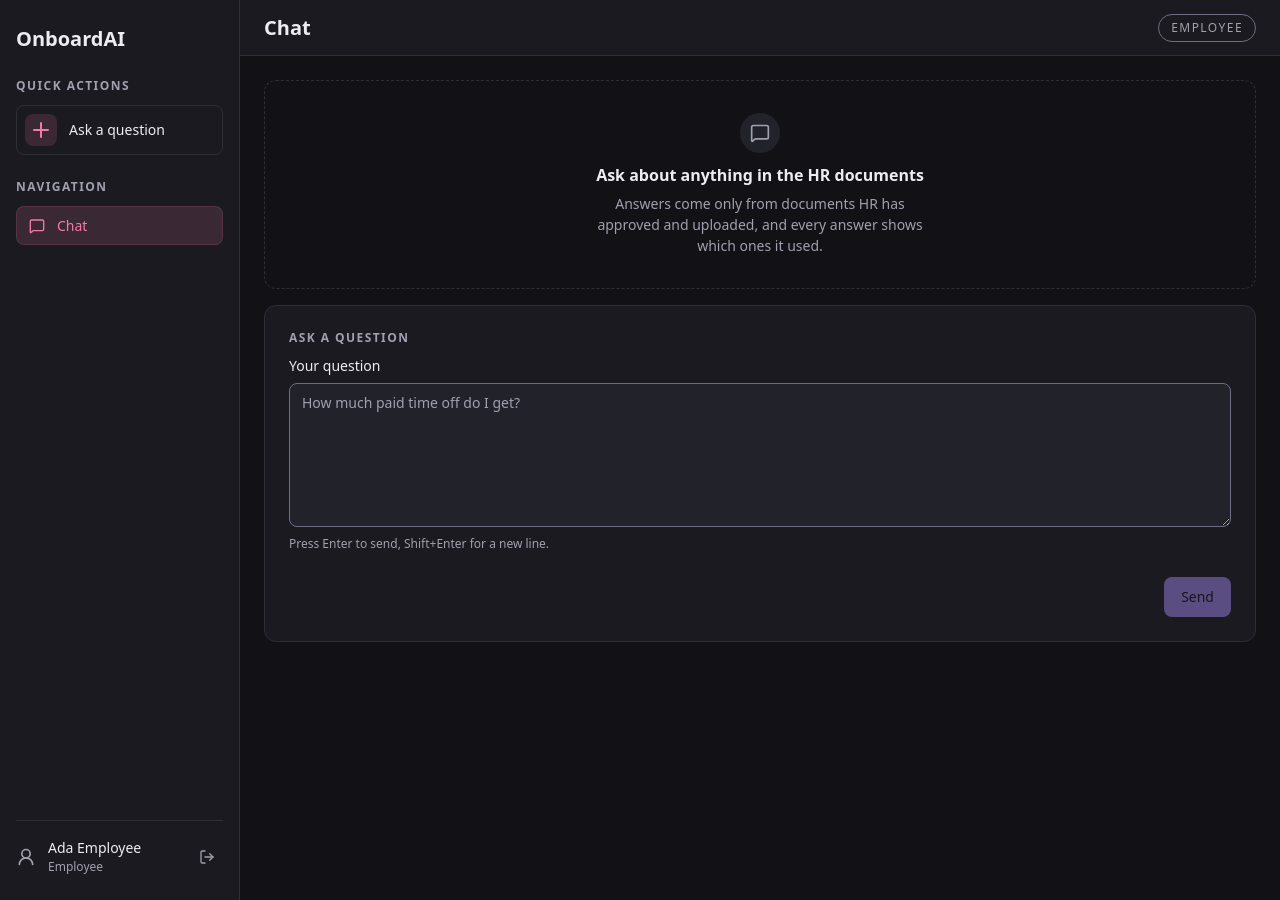
Test: shows the answer
Type "How much paid time off do I accrue?" into the text box labelled "Your question" at (760,454), box [289,382,1231,526]
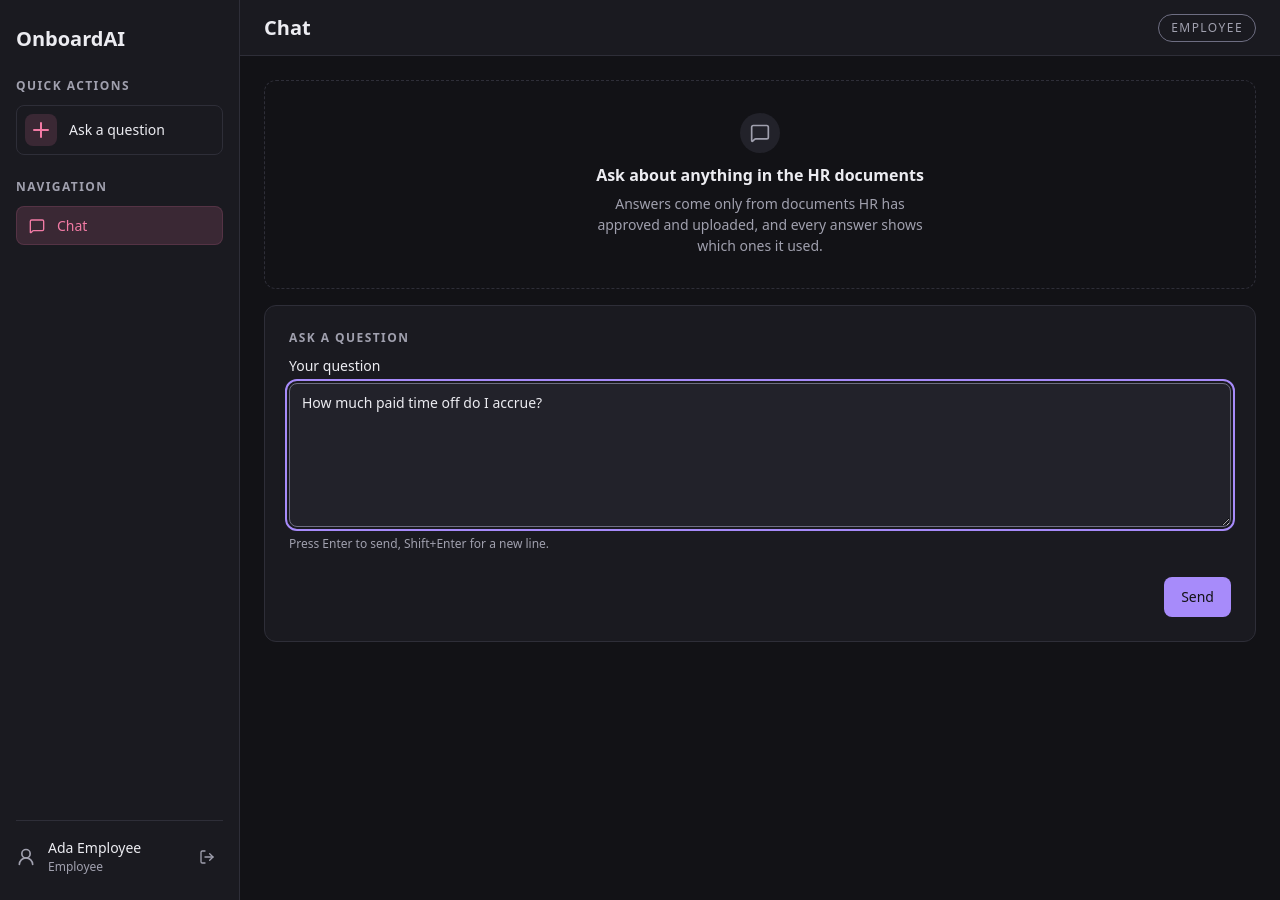
Click the button "Send" at (1198,596), box [1164,576,1231,616]
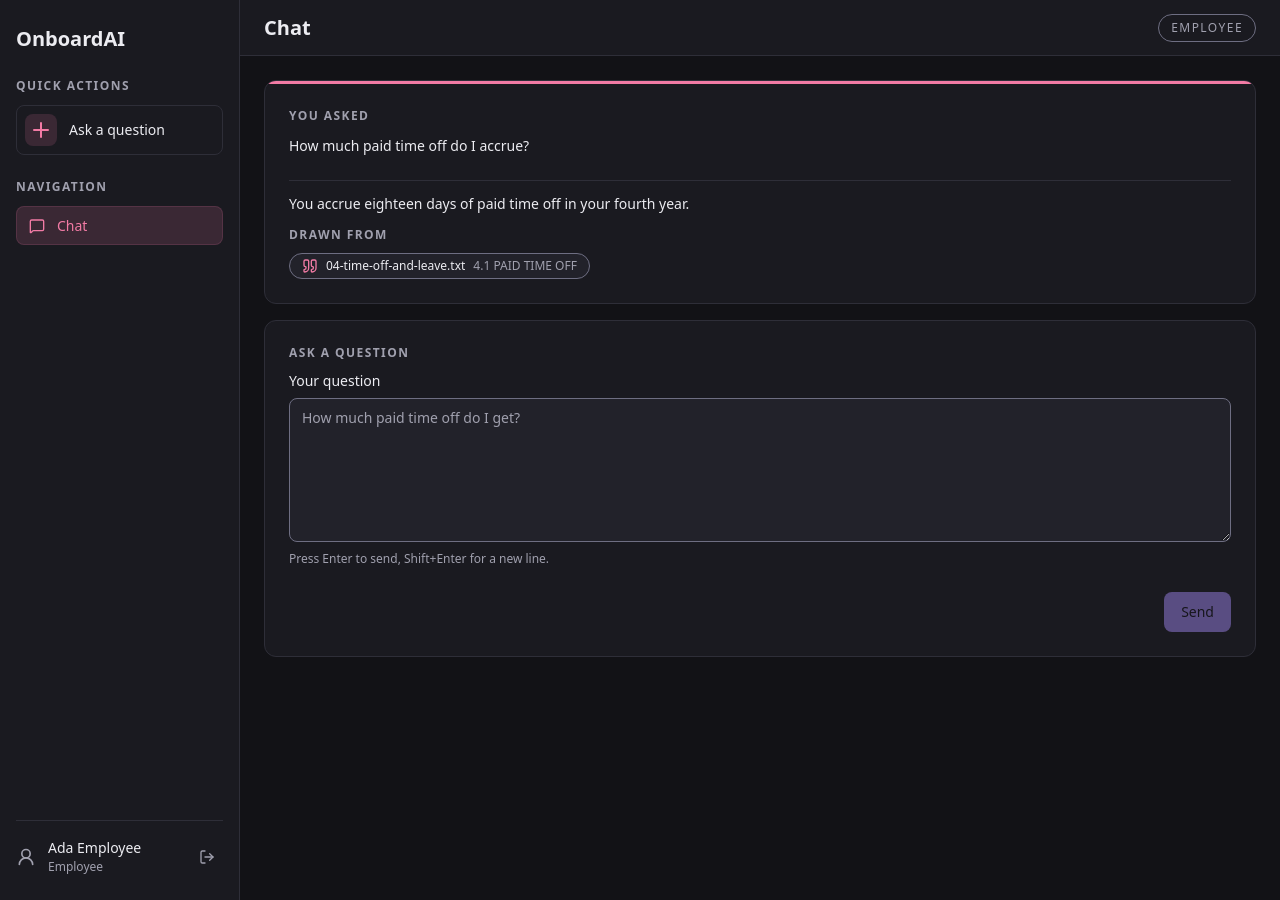
Check: the text "You accrue eighteen days of paid time off in your fourth year." is shown, box [289,194,689,213]
